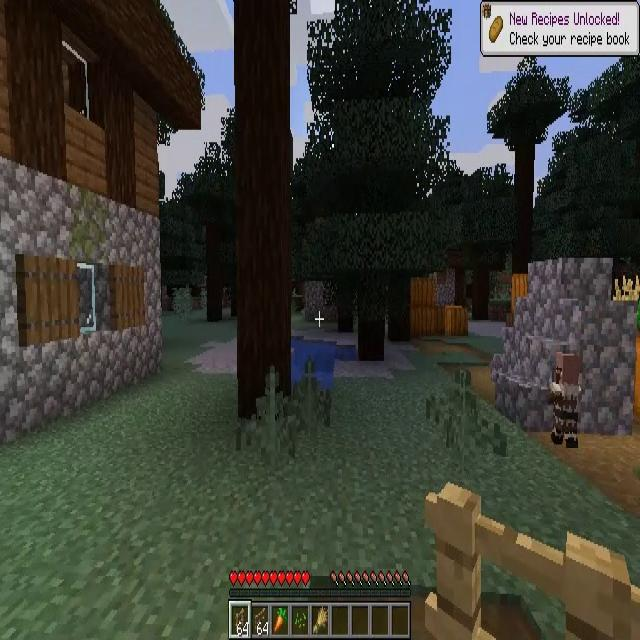people: (550, 352, 580, 448)
